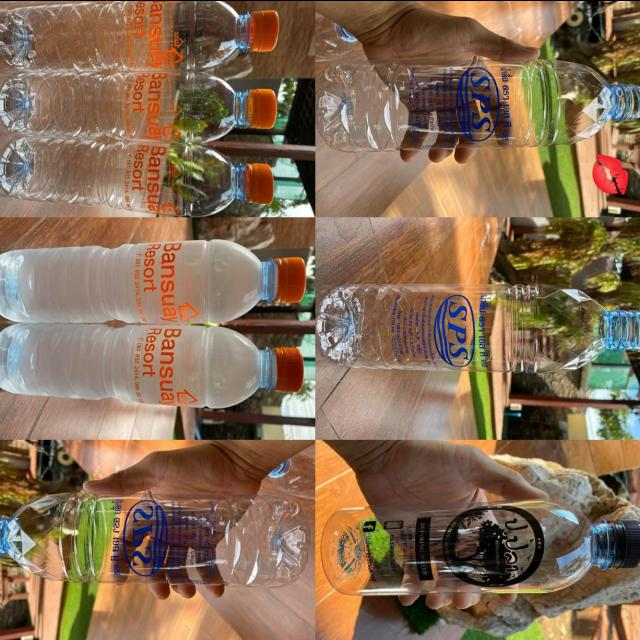plastik: (322, 498, 640, 595), (317, 59, 640, 152), (0, 492, 310, 586), (316, 283, 640, 372), (0, 322, 303, 407), (0, 239, 306, 322), (0, 137, 273, 215), (0, 0, 278, 71), (0, 71, 276, 142)
